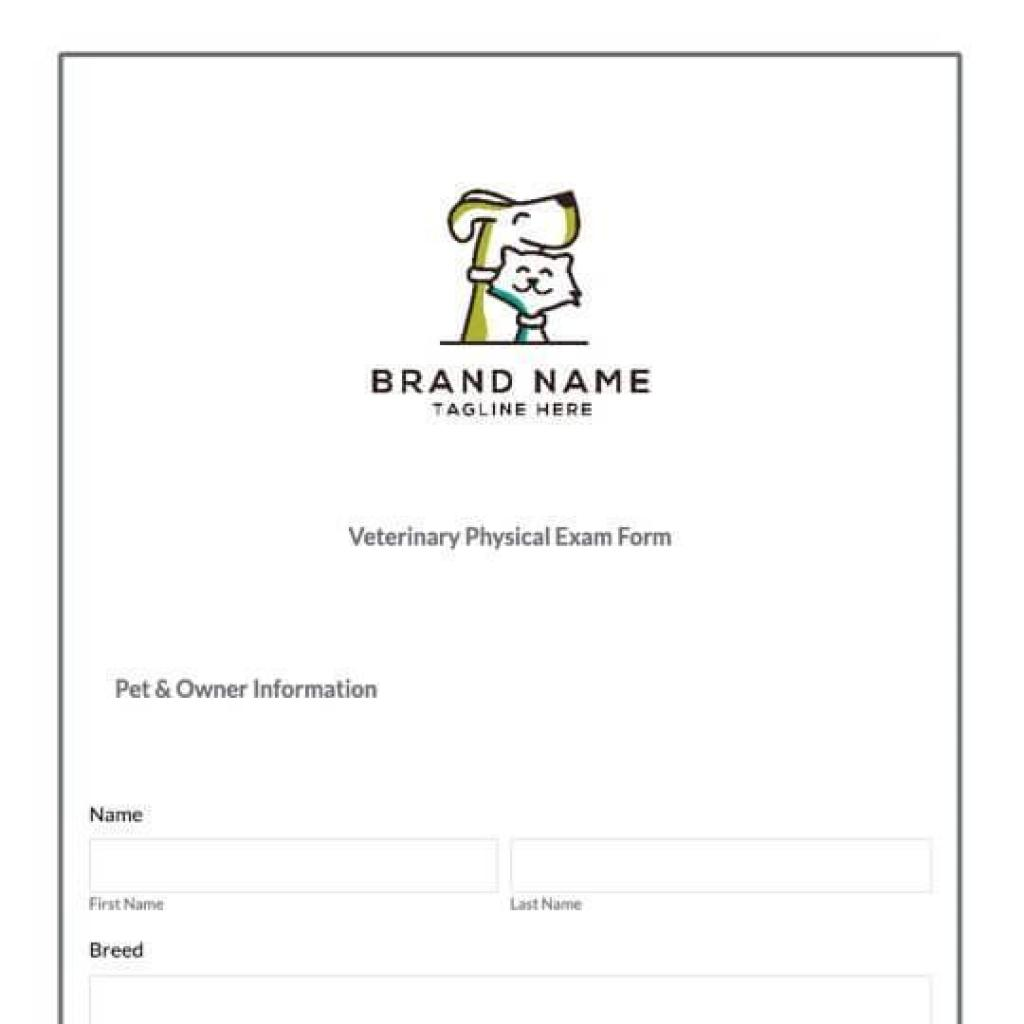input: (91, 976, 931, 1024), (512, 840, 935, 893), (91, 840, 501, 893)
label: (345, 518, 681, 559), (106, 667, 385, 715), (82, 796, 158, 832), (86, 891, 172, 920), (84, 933, 160, 965), (506, 895, 586, 918)
